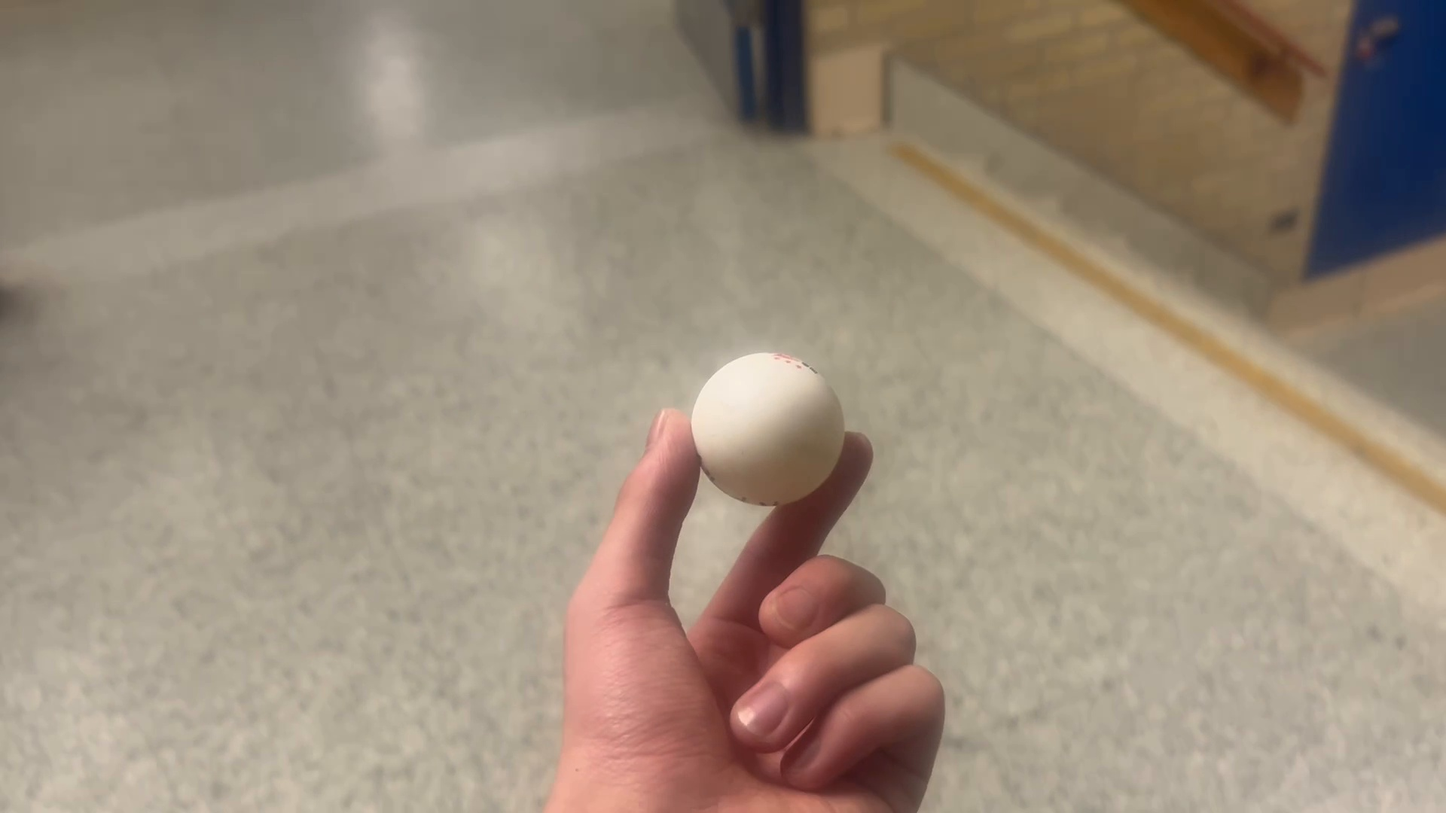Ball: (684, 339, 843, 504)
